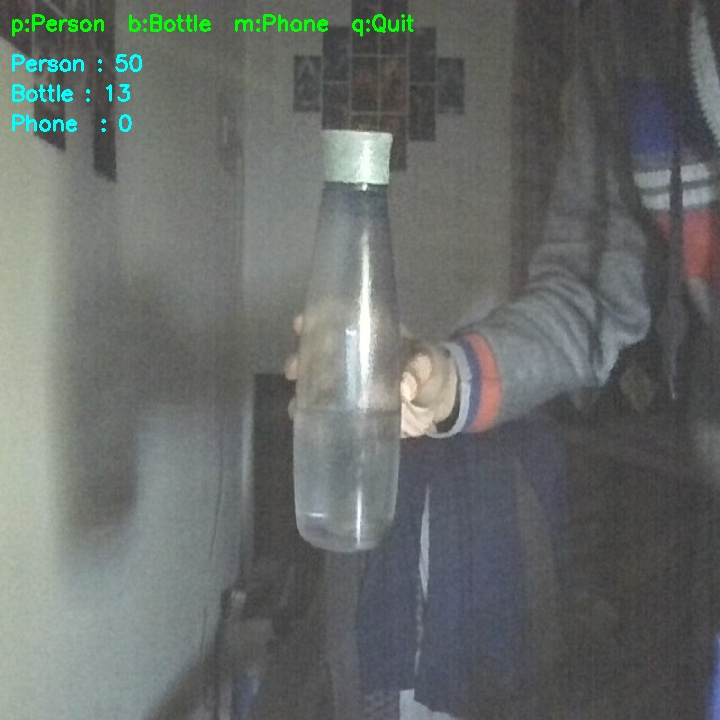bottle: (278, 113, 424, 563)
